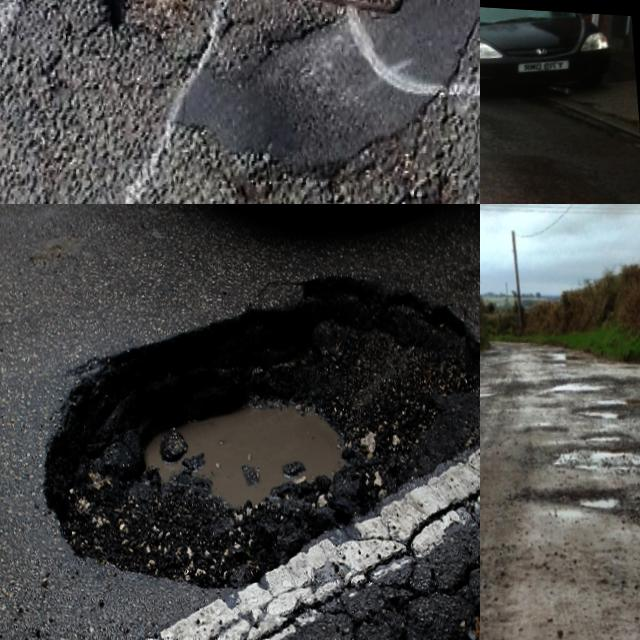Potholes: (0, 204, 480, 640), (20, 0, 480, 169), (511, 345, 640, 444), (550, 451, 638, 532), (599, 411, 640, 498)
